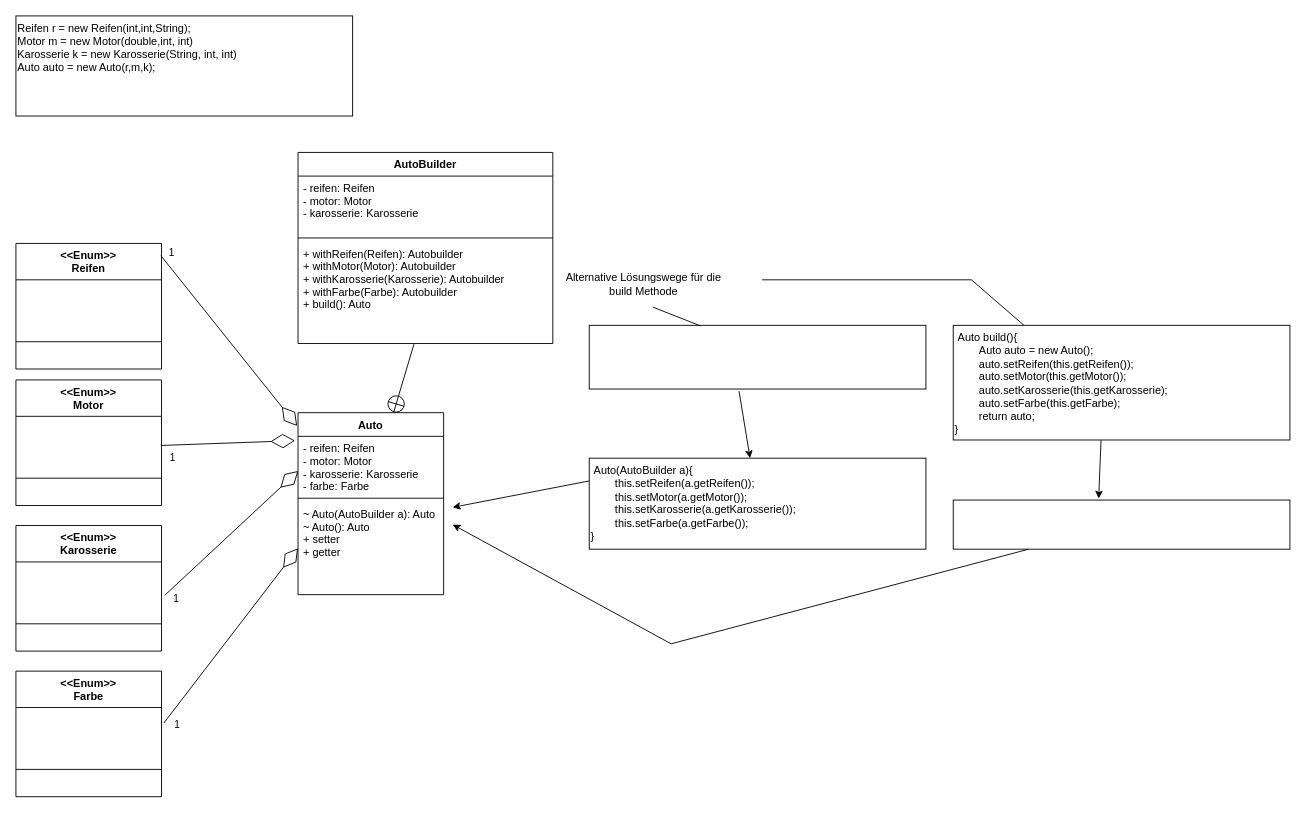
This 1306x815 diagram has some shape labels left out. The shapes that lost their labels are listed below. From the top down, each one's centre as x and y in pixels, then its label:
At (757,356): "Auto build(){ Auto auto = new Auto(this); return auto; }".
At (1121,524): "Auto(){ }".
